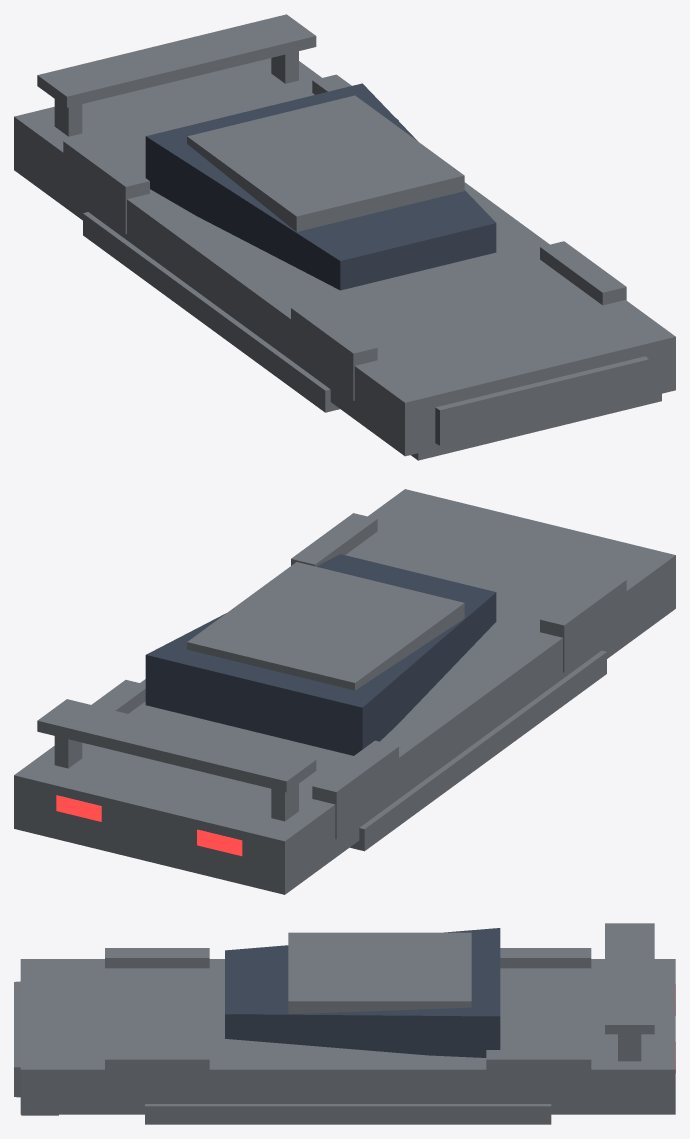
File: car_titan.glb
3 renders of one model, top to bottom at view 1: azimuth 30°, elevation 25°; view 2: azimuth 150°, elevation 25°; view 3: azimuth 270°, elevation 25°, orthographic. The views are drawn at different scales.
Visible parts, largest first — view 1: Mesh; view 2: Mesh; view 3: Mesh.
Boxes of the visible parts, box(x1,y1,x2,y2) form: Mesh: box(14, 14, 675, 460); Mesh: box(14, 489, 675, 894); Mesh: box(14, 923, 675, 1124).
Bounding box in the file's own units: 1.87 × 0.76 × 4.55.
